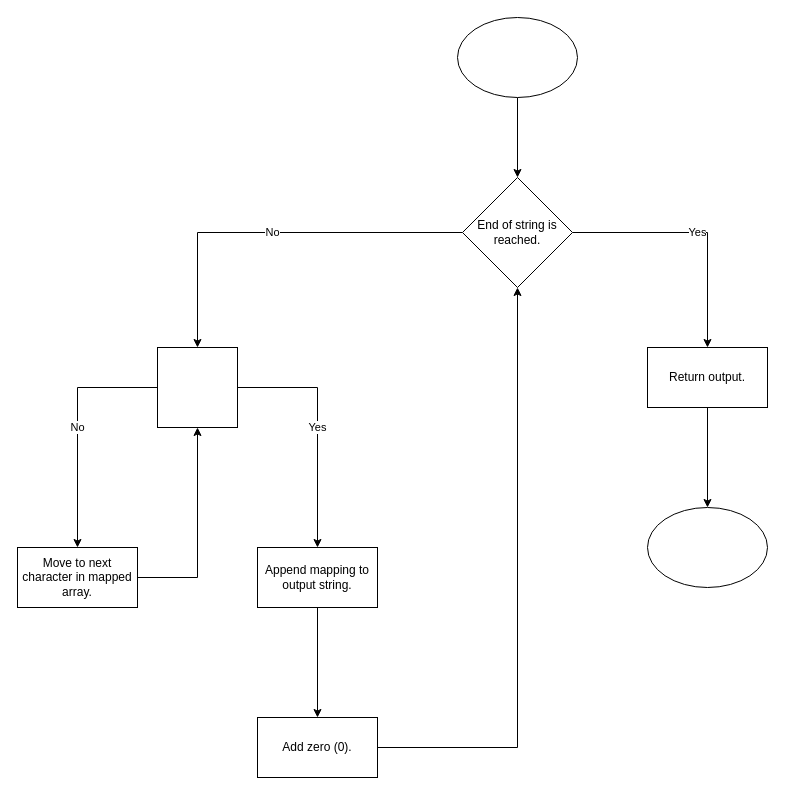
Image size: 785x795. Some labels were removed from this diagram. The shapes that lost their labels are listed below. From the top down, each one's box as (x1, y1, x2, y2) in pixels, then its label:
(456, 16, 578, 98): Start
(156, 346, 238, 428): Character matches.
(646, 506, 768, 588): End
